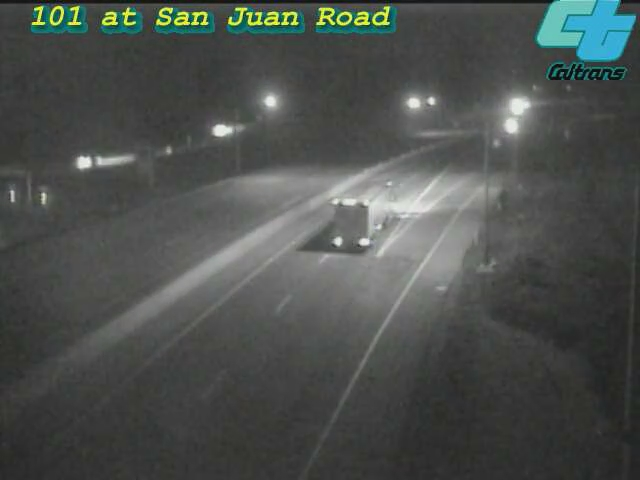vehicle: (323, 180, 403, 260), (481, 102, 531, 152), (490, 82, 540, 132)
